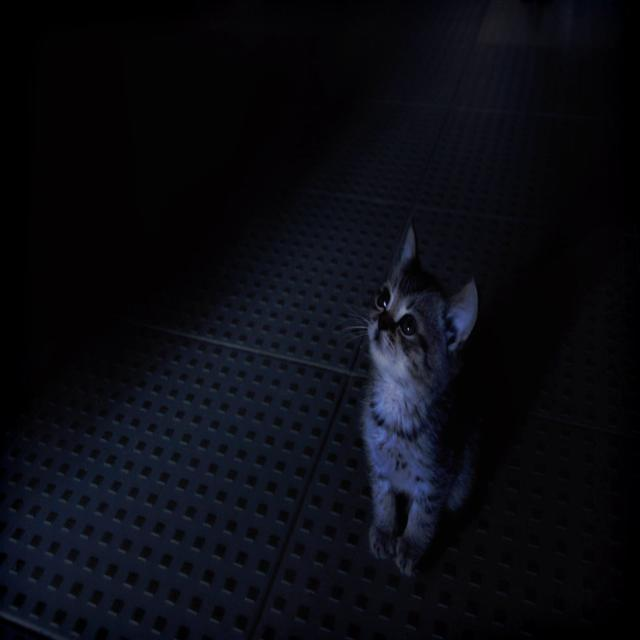Cat: (353, 197, 483, 589)
